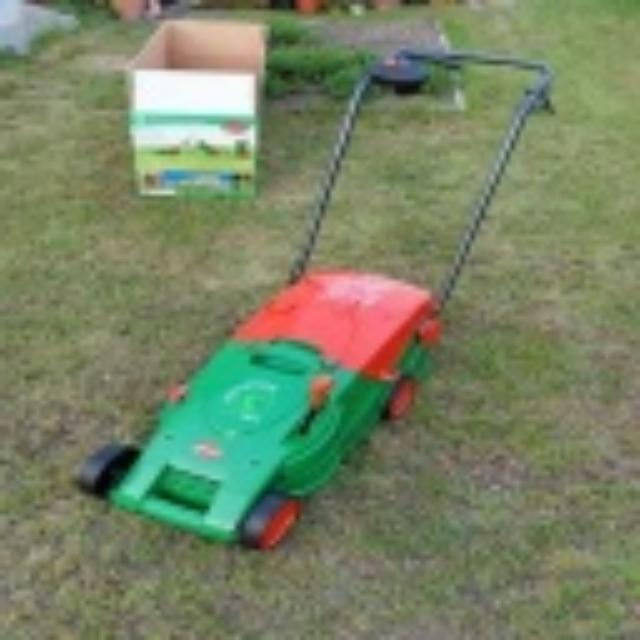Rotary-Mower: (70, 40, 554, 550)
